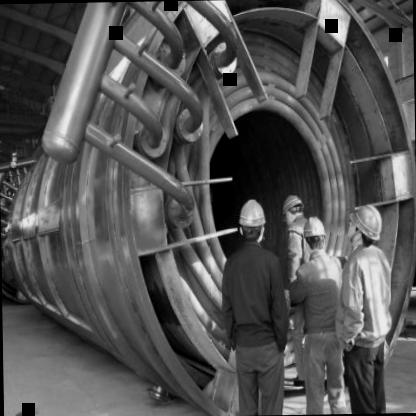helmet: (236, 195, 269, 249), (347, 203, 382, 251), (302, 215, 326, 255), (280, 192, 305, 226)
